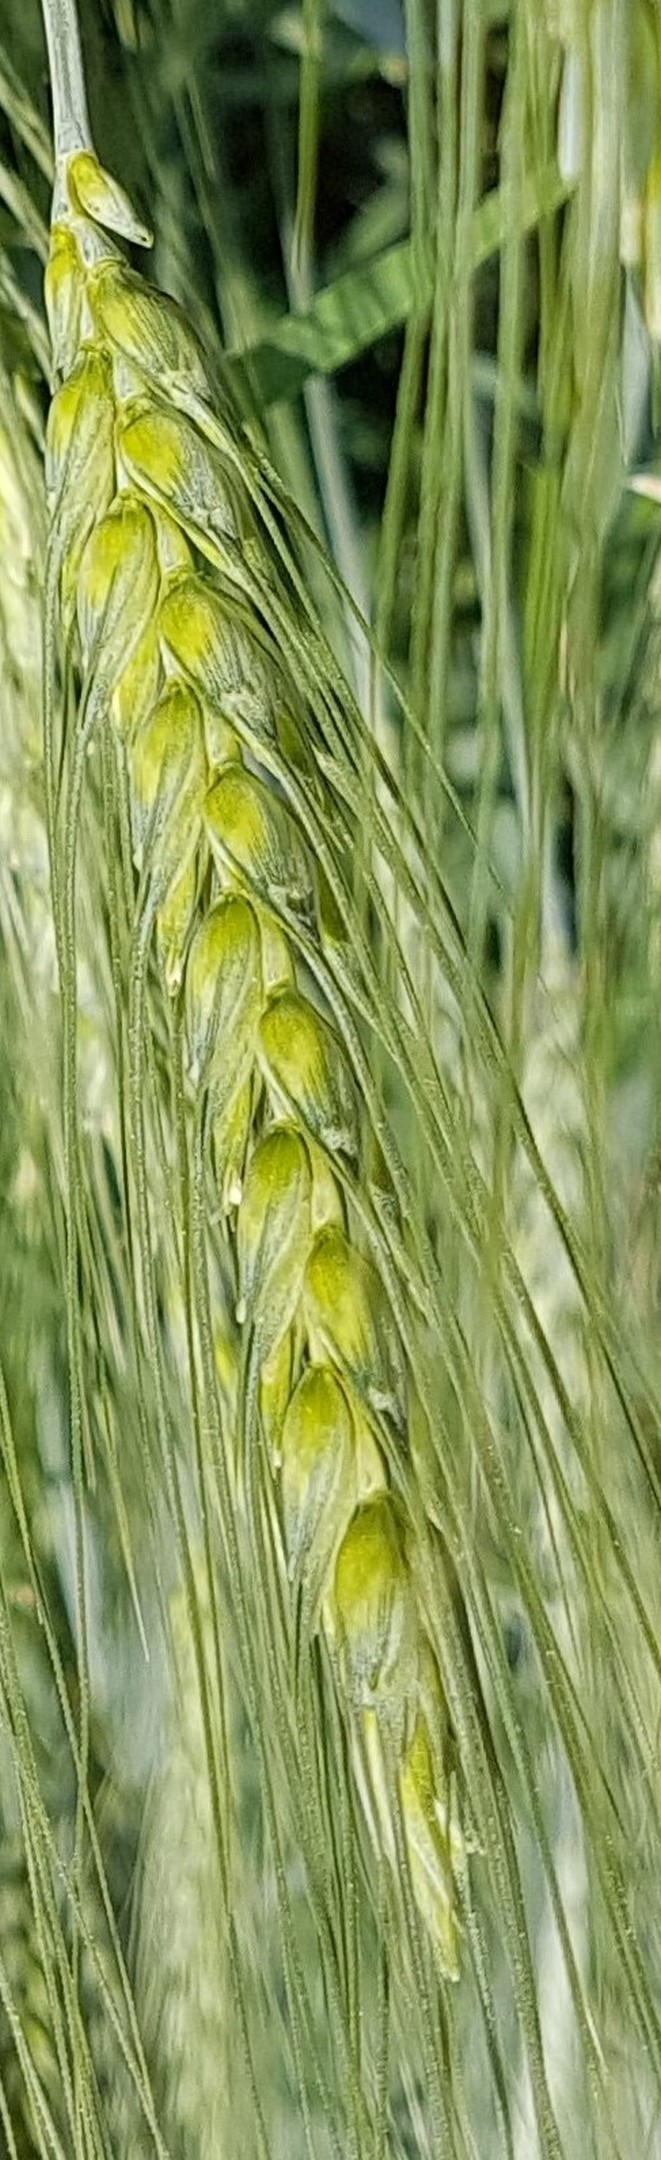Healthy Wheat: (43, 169, 556, 1959)
